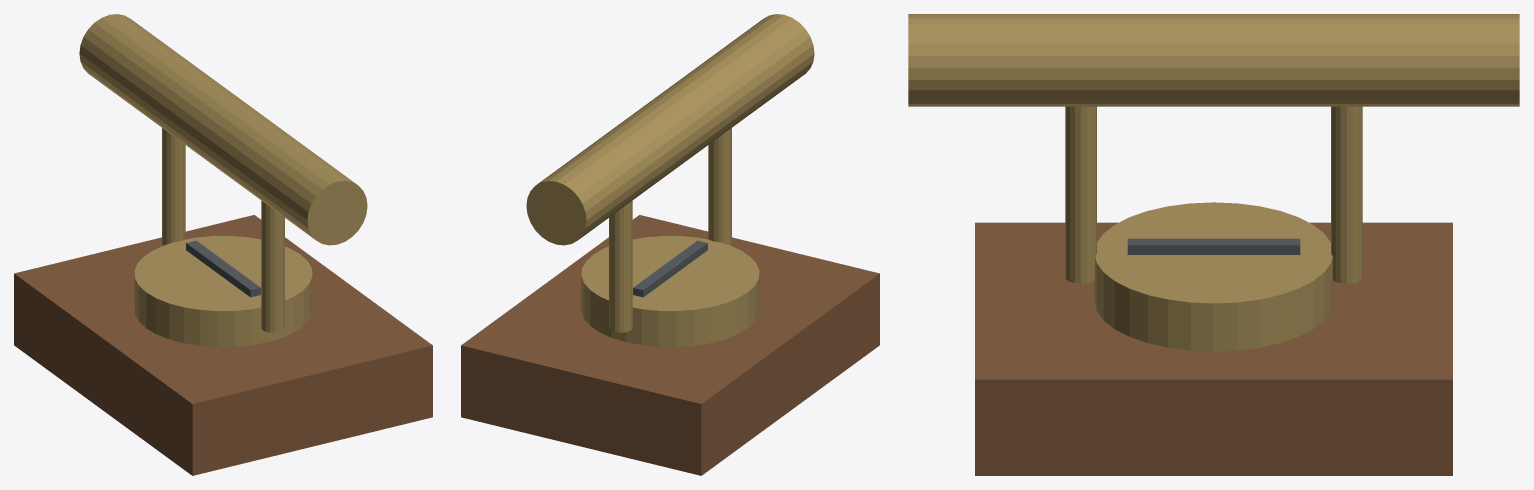
The model's file is SM_Module_NavigationKit.glb.
The picture shows the model from 3 angles, left to right: view 1: azimuth 30°, elevation 25°; view 2: azimuth 150°, elevation 25°; view 3: azimuth 270°, elevation 25°; orthographic projection. The views are drawn at different scales.
Parts seen in each view (by area): view 1: SM_Module_NavigationKit; view 2: SM_Module_NavigationKit; view 3: SM_Module_NavigationKit.
Boxes of the visible parts, <box> form: SM_Module_NavigationKit: <box>14,14,432,475</box>; SM_Module_NavigationKit: <box>461,14,879,475</box>; SM_Module_NavigationKit: <box>908,14,1519,475</box>.
Size of the model in its own units: 0.28 by 0.315 by 0.46.
